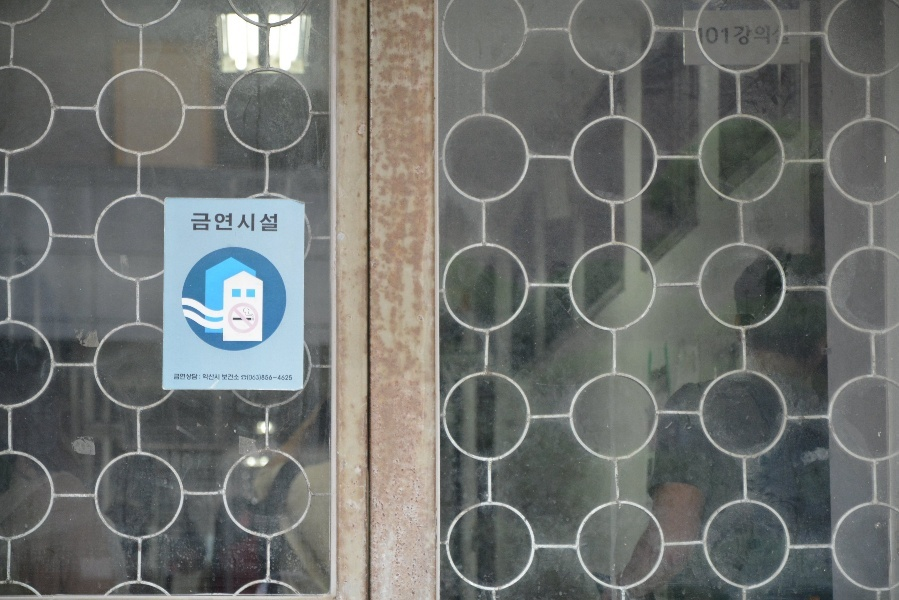text: (705, 25, 720, 47), (721, 25, 736, 47), (737, 25, 752, 47), (753, 25, 768, 47), (193, 213, 208, 233), (209, 213, 224, 233), (225, 213, 240, 233), (241, 213, 256, 233), (257, 213, 272, 233), (696, 25, 704, 47), (177, 374, 192, 381), (257, 374, 272, 381), (273, 374, 288, 381), (273, 213, 278, 233), (225, 374, 239, 381), (209, 374, 220, 381), (247, 374, 256, 381), (193, 374, 201, 381), (769, 25, 771, 47), (202, 374, 208, 381), (289, 374, 292, 381), (191, 213, 192, 233), (174, 374, 176, 381), (222, 374, 224, 381)
